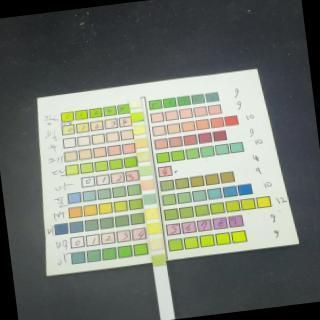mark: (145, 208, 159, 220), (149, 239, 163, 251), (137, 152, 151, 162), (143, 194, 157, 204), (148, 224, 162, 234), (152, 255, 166, 265), (136, 138, 148, 148), (142, 180, 154, 190), (132, 112, 144, 121), (140, 167, 152, 176), (130, 100, 142, 108), (133, 126, 145, 134)
